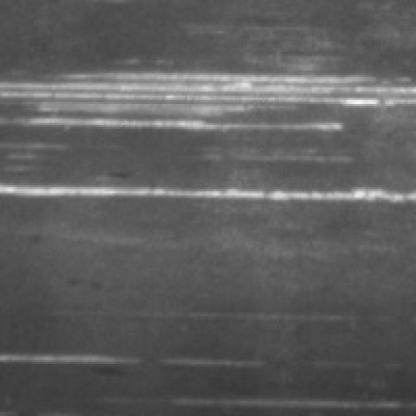scratches: (0, 66, 410, 133), (0, 171, 412, 204)
